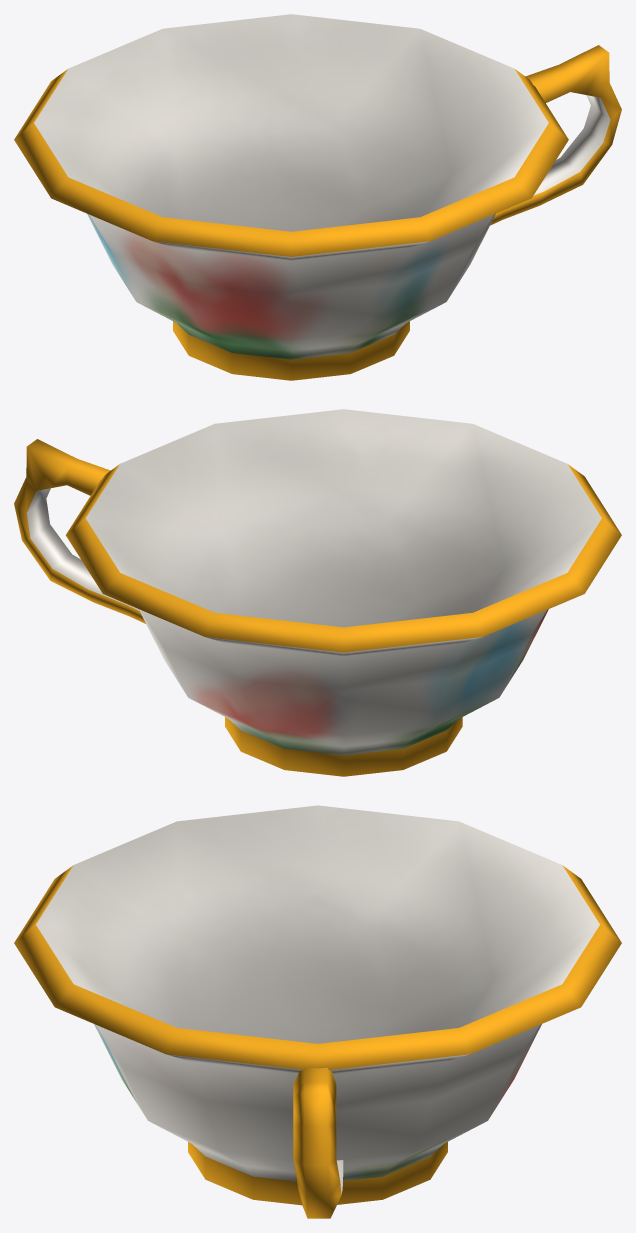
Rendered from tea_cup.glb.
3 views of the same model, one above another, from view 1: azimuth 30°, elevation 25°; view 2: azimuth 150°, elevation 25°; view 3: azimuth 270°, elevation 25° (orthographic). The views are drawn at different scales.
Parts seen in each view (by area): view 1: tea_cup; view 2: tea_cup; view 3: tea_cup.
Part boxes in pixels (x1=…): tea_cup: x1=14, y1=14, x2=621, y2=380; tea_cup: x1=14, y1=409, x2=621, y2=776; tea_cup: x1=14, y1=805, x2=621, y2=1218.
Bounding box in the file's own units: 0.1623 × 0.057 × 0.1381.
1 material, 1 textured.
